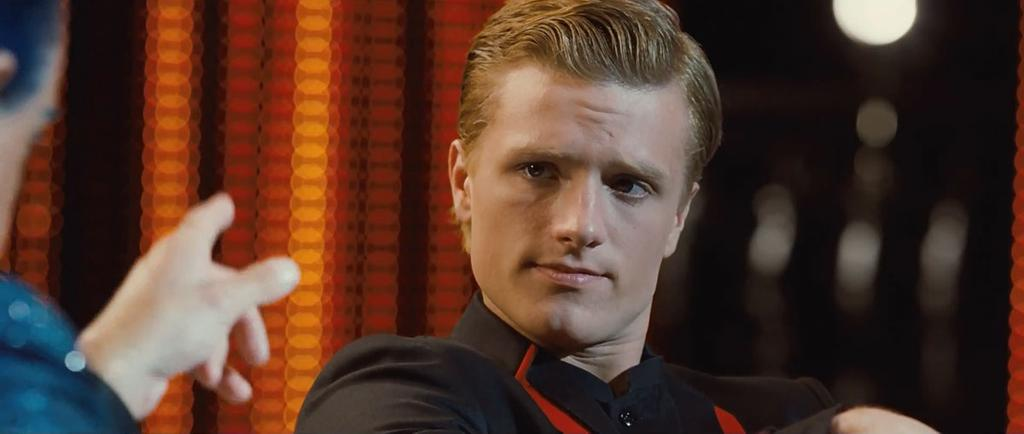face: (476, 52, 684, 342)
